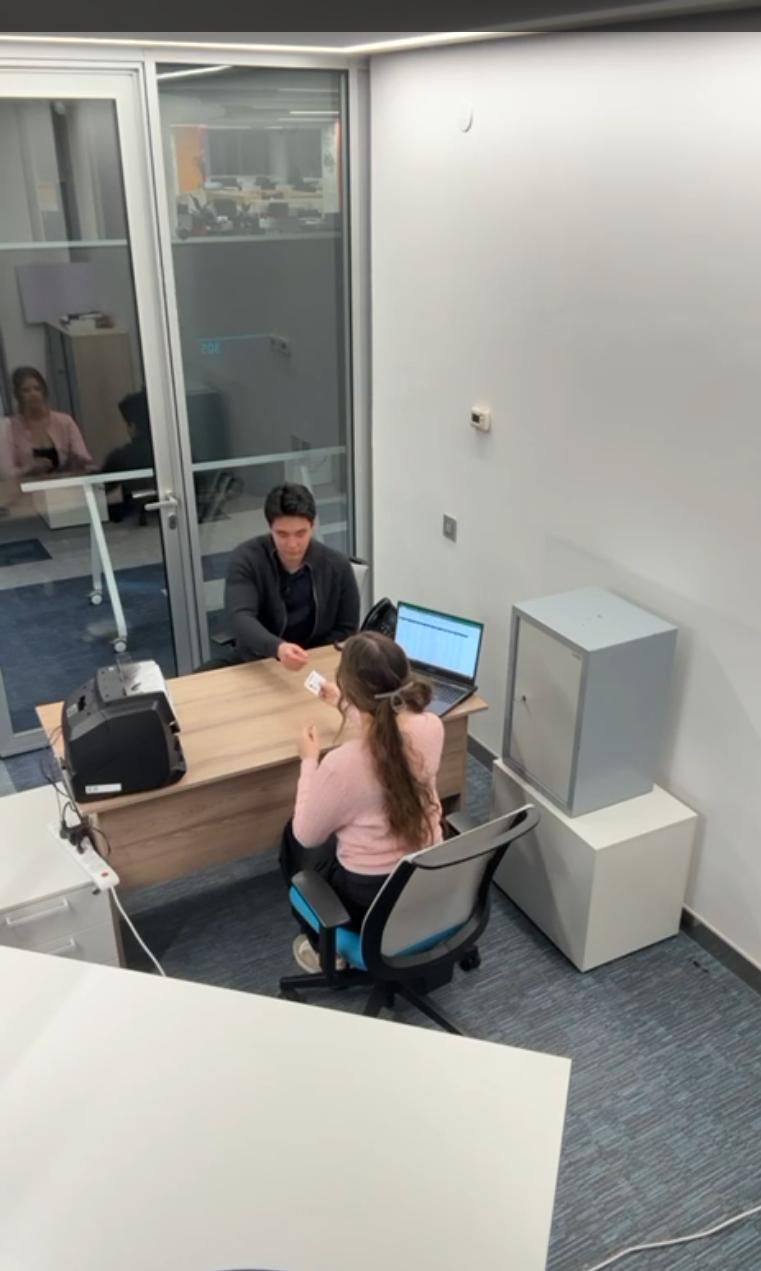counter: (58, 657, 188, 807)
document: (296, 668, 337, 699)
key_in: (510, 686, 543, 720)
screen_on: (398, 603, 477, 681)
